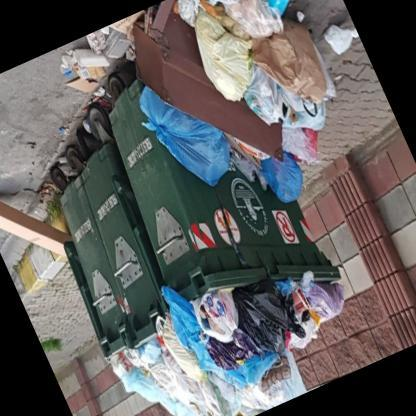Garbage: (110, 292, 304, 415), (166, 0, 331, 140), (181, 274, 354, 398), (154, 282, 307, 415), (128, 58, 238, 202), (243, 26, 351, 164), (244, 124, 312, 206)
